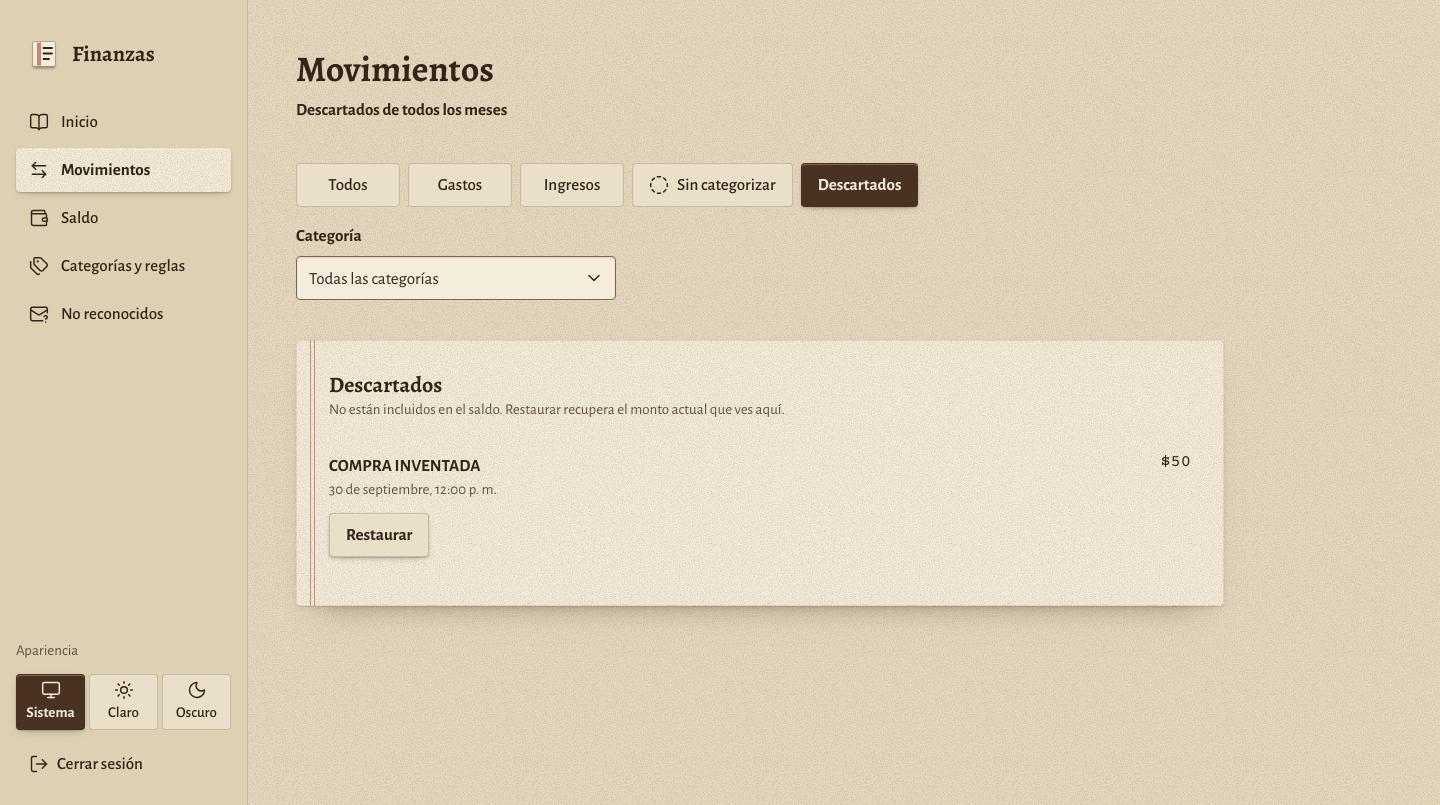
it: restaurar usa el monto actual mostrado y la vista de todos los meses se recarga
Click the button with aria-label "Restaurar COMPRA INVENTADA" at (379, 535), box left=329, top=513, right=430, bottom=557
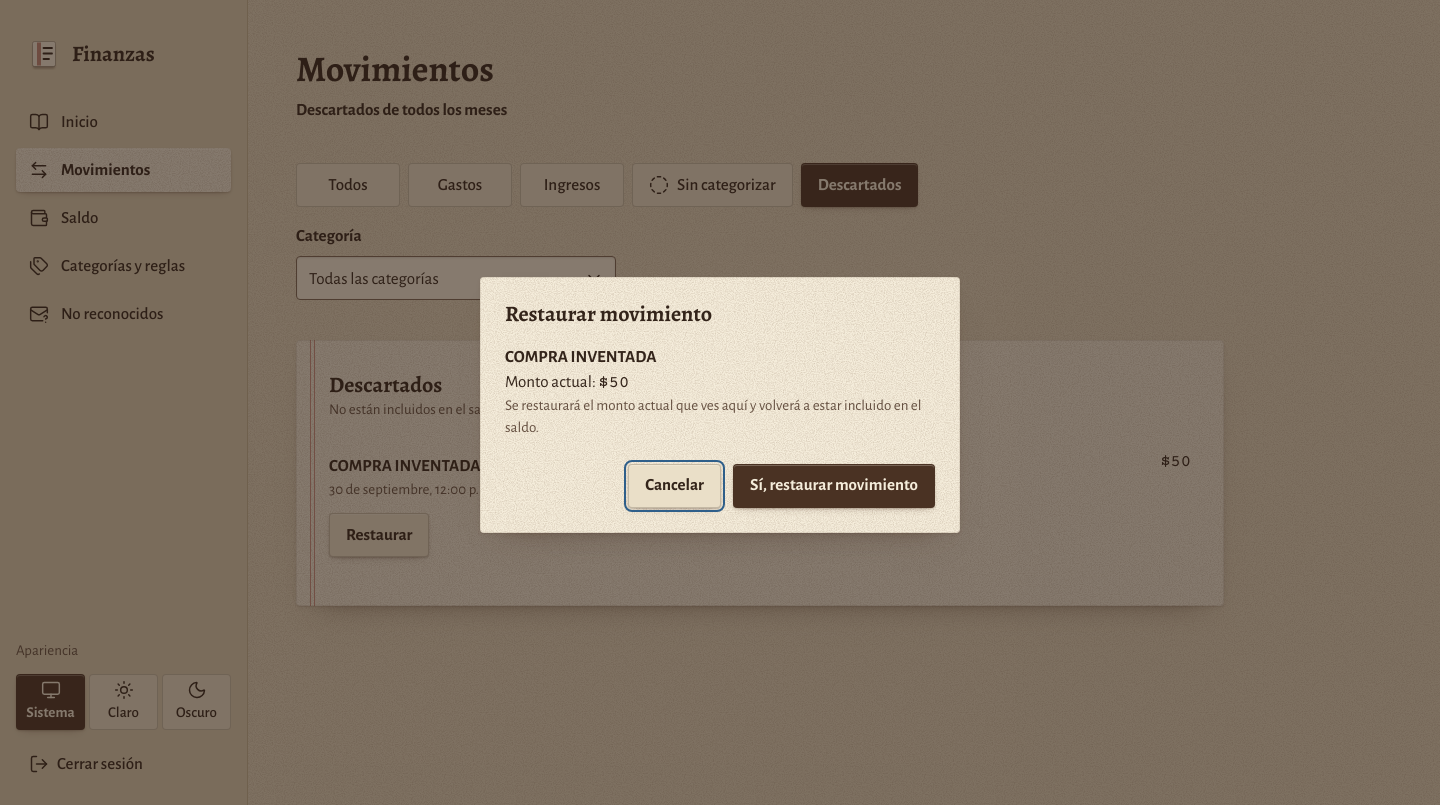
Expected: the text "Se restaurará el monto actual" is shown, left=505, top=398, right=922, bottom=435
Expected: the dialog shows "Monto actual: $50", left=480, top=277, right=960, bottom=533
Click the button "Sí, restaurar movimiento" at (834, 486), box left=733, top=464, right=935, bottom=508
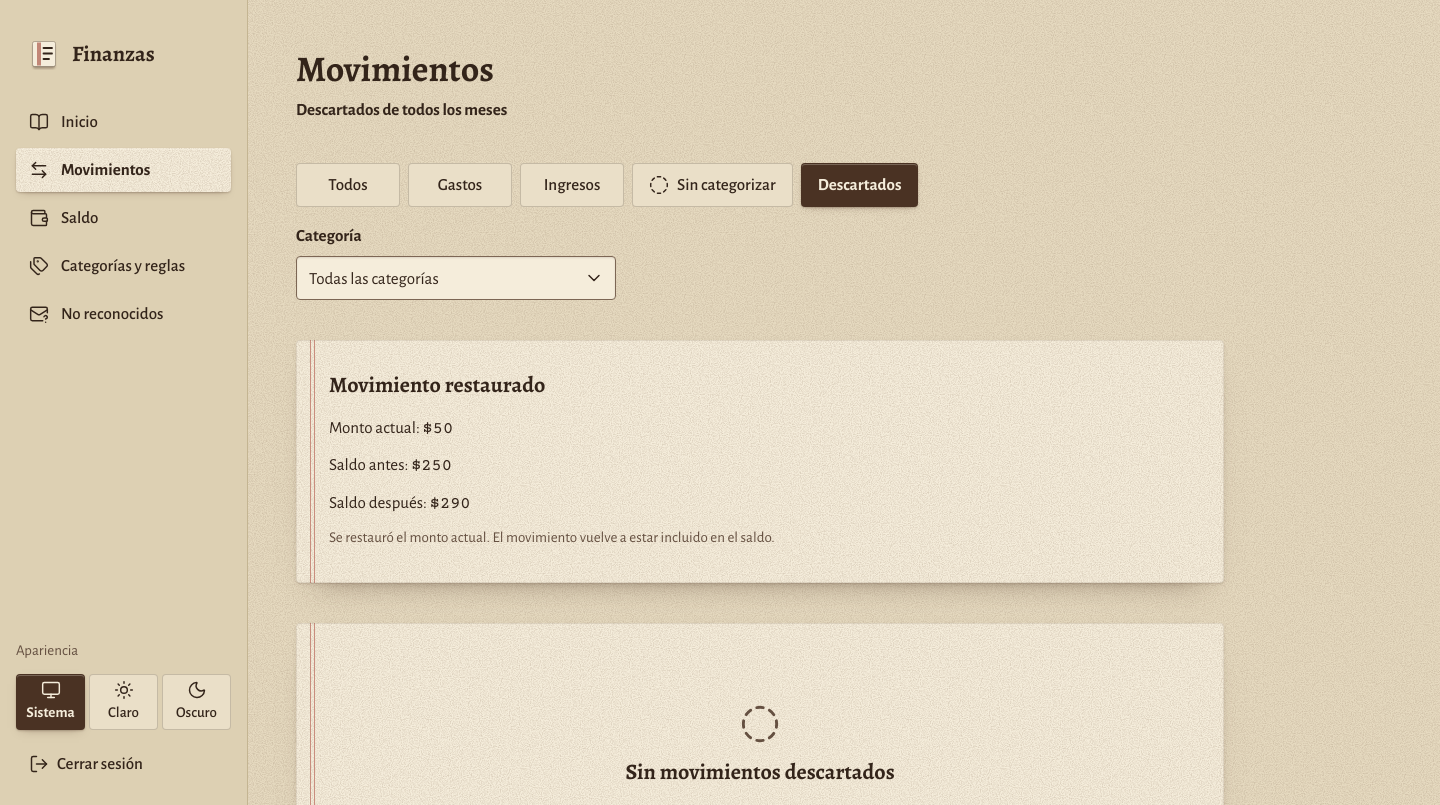
Expected: the heading "Movimiento restaurado" is shown, left=329, top=370, right=545, bottom=400
Expected: the heading "Sin movimientos descartados" is shown, left=625, top=760, right=895, bottom=785
